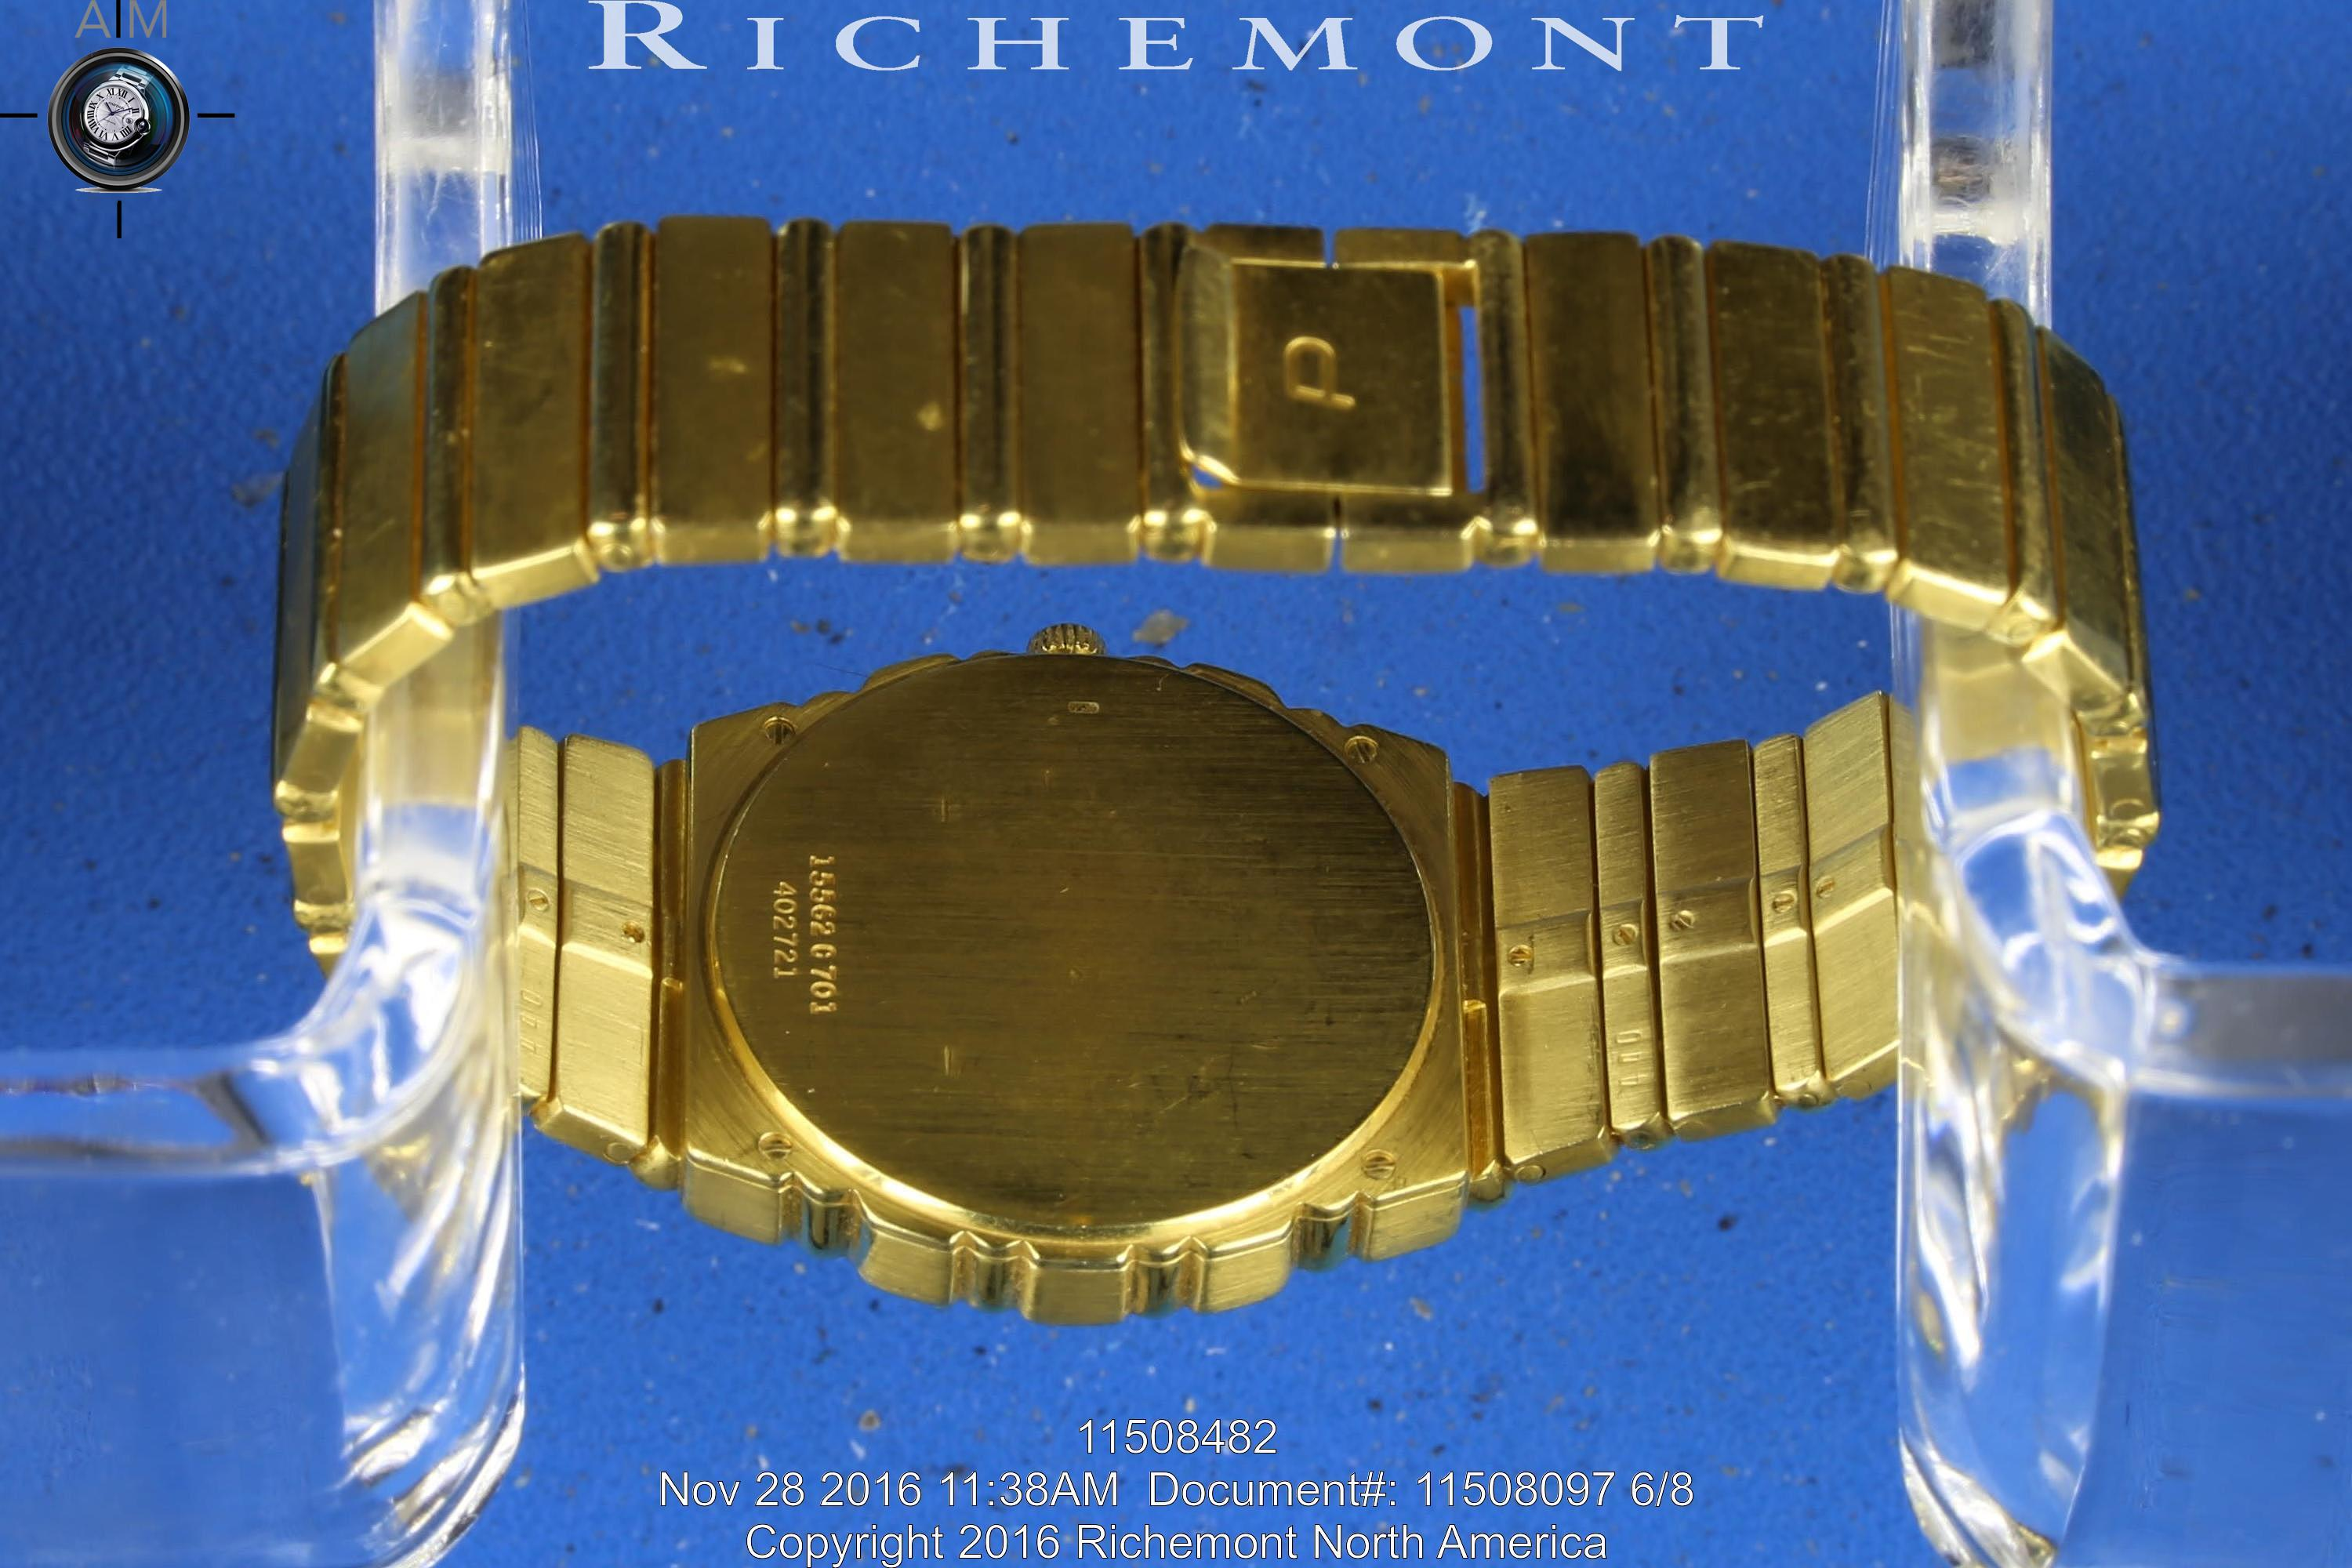Watch BackCase: (667, 618, 1494, 1337)
